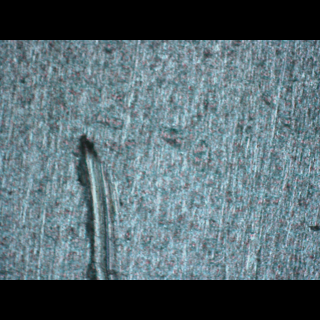d: (74, 133, 125, 279)
